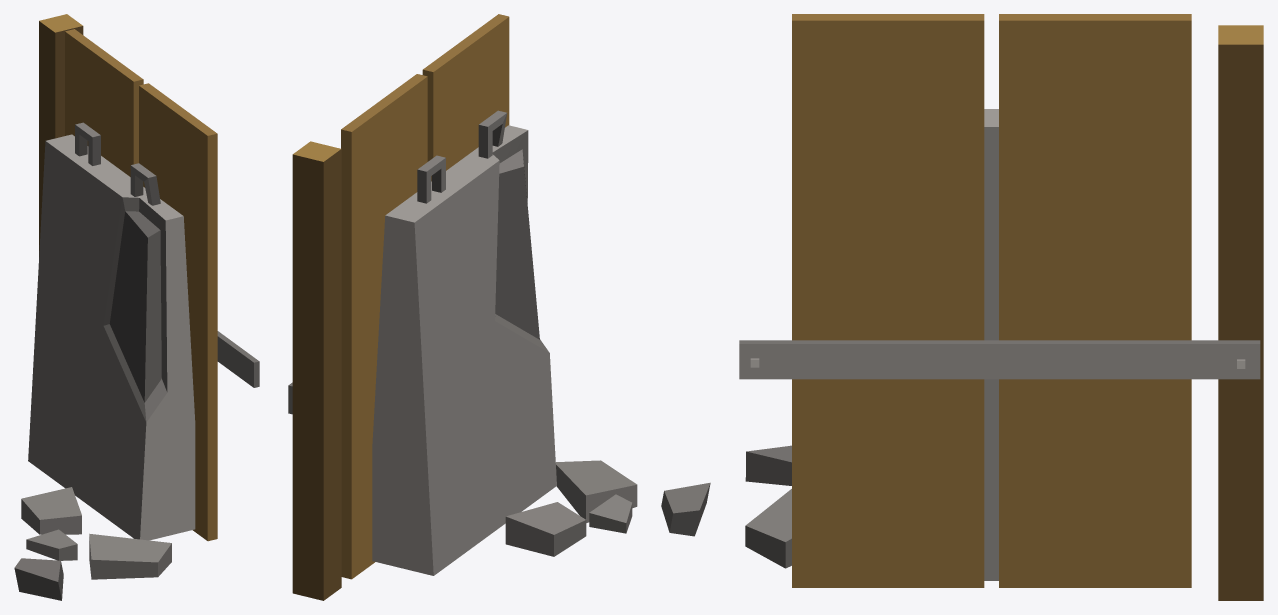
The model's file is FenceWoodL_Concrete_04.fbx.
The picture shows the model from 3 angles, left to right: view 1: azimuth 30°, elevation 25°; view 2: azimuth 150°, elevation 25°; view 3: azimuth 270°, elevation 25°; orthographic projection. The views are drawn at different scales.
Parts seen in each view (by area): view 1: FenceWoodL_Concrete_04; view 2: FenceWoodL_Concrete_04; view 3: FenceWoodL_Concrete_04.
Boxes of the visible parts, x1,y1,x2,y2 form: FenceWoodL_Concrete_04: (14,14,259,600); FenceWoodL_Concrete_04: (288,14,710,600); FenceWoodL_Concrete_04: (739,14,1263,600).
Bounding box in the file's own units: 3.39 × 5.04 × 6.23.
